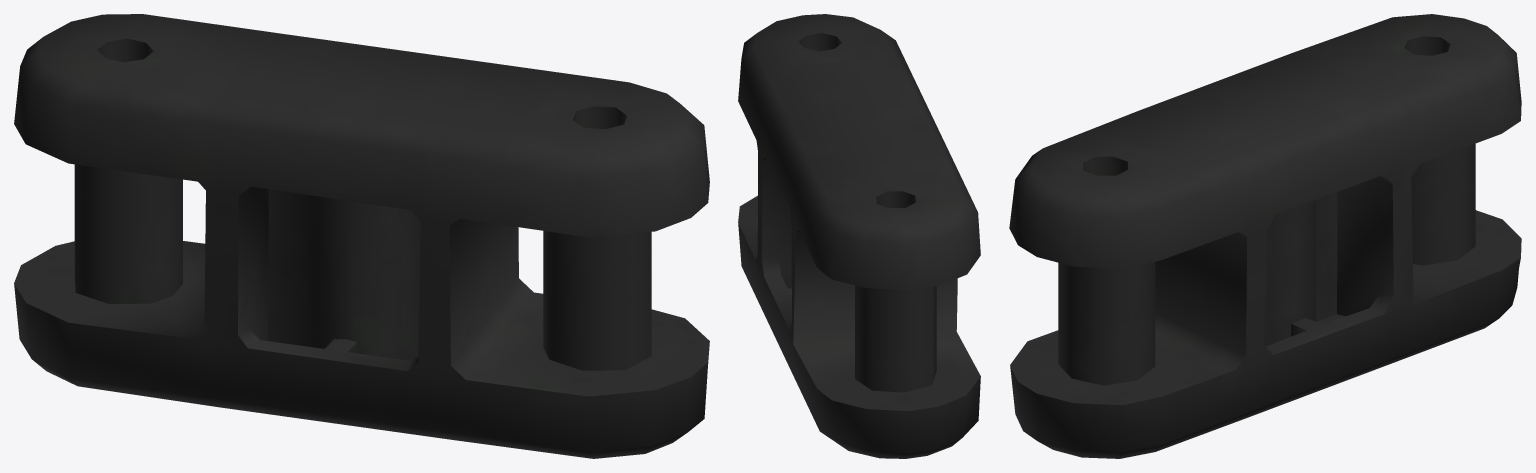
Rendered from right_gripper_7.dae.
3 views of the same model, side by side, from view 1: azimuth 30°, elevation 25°; view 2: azimuth 150°, elevation 25°; view 3: azimuth 270°, elevation 25° (orthographic). The views are drawn at different scales.
Parts seen in each view (by area): view 1: right_gripper_7; view 2: right_gripper_7; view 3: right_gripper_7.
Part boxes in pixels (x1,y1,x2,y2): right_gripper_7: [14, 14, 709, 458]; right_gripper_7: [738, 14, 980, 458]; right_gripper_7: [1009, 14, 1521, 458].
Bounding box in the file's own units: 0.0249 × 0.0268 × 0.0151.
